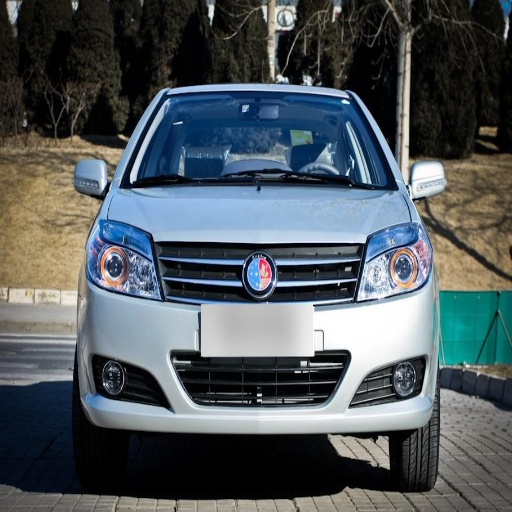front_bumper: (84, 244, 436, 429)
front_right_light: (89, 226, 163, 299)
hood: (106, 189, 413, 298)
left_mirror: (409, 160, 446, 199)
